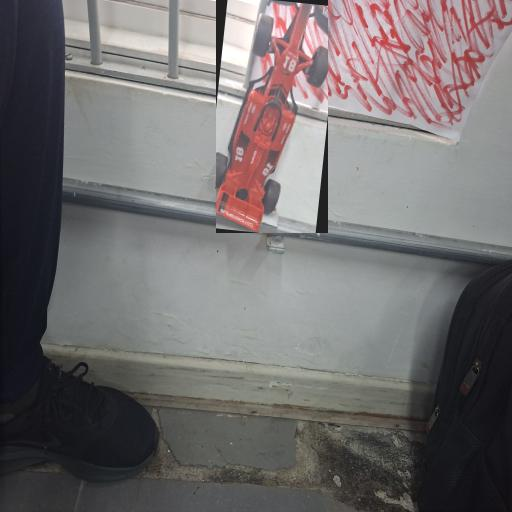carro: (215, 0, 326, 232)
